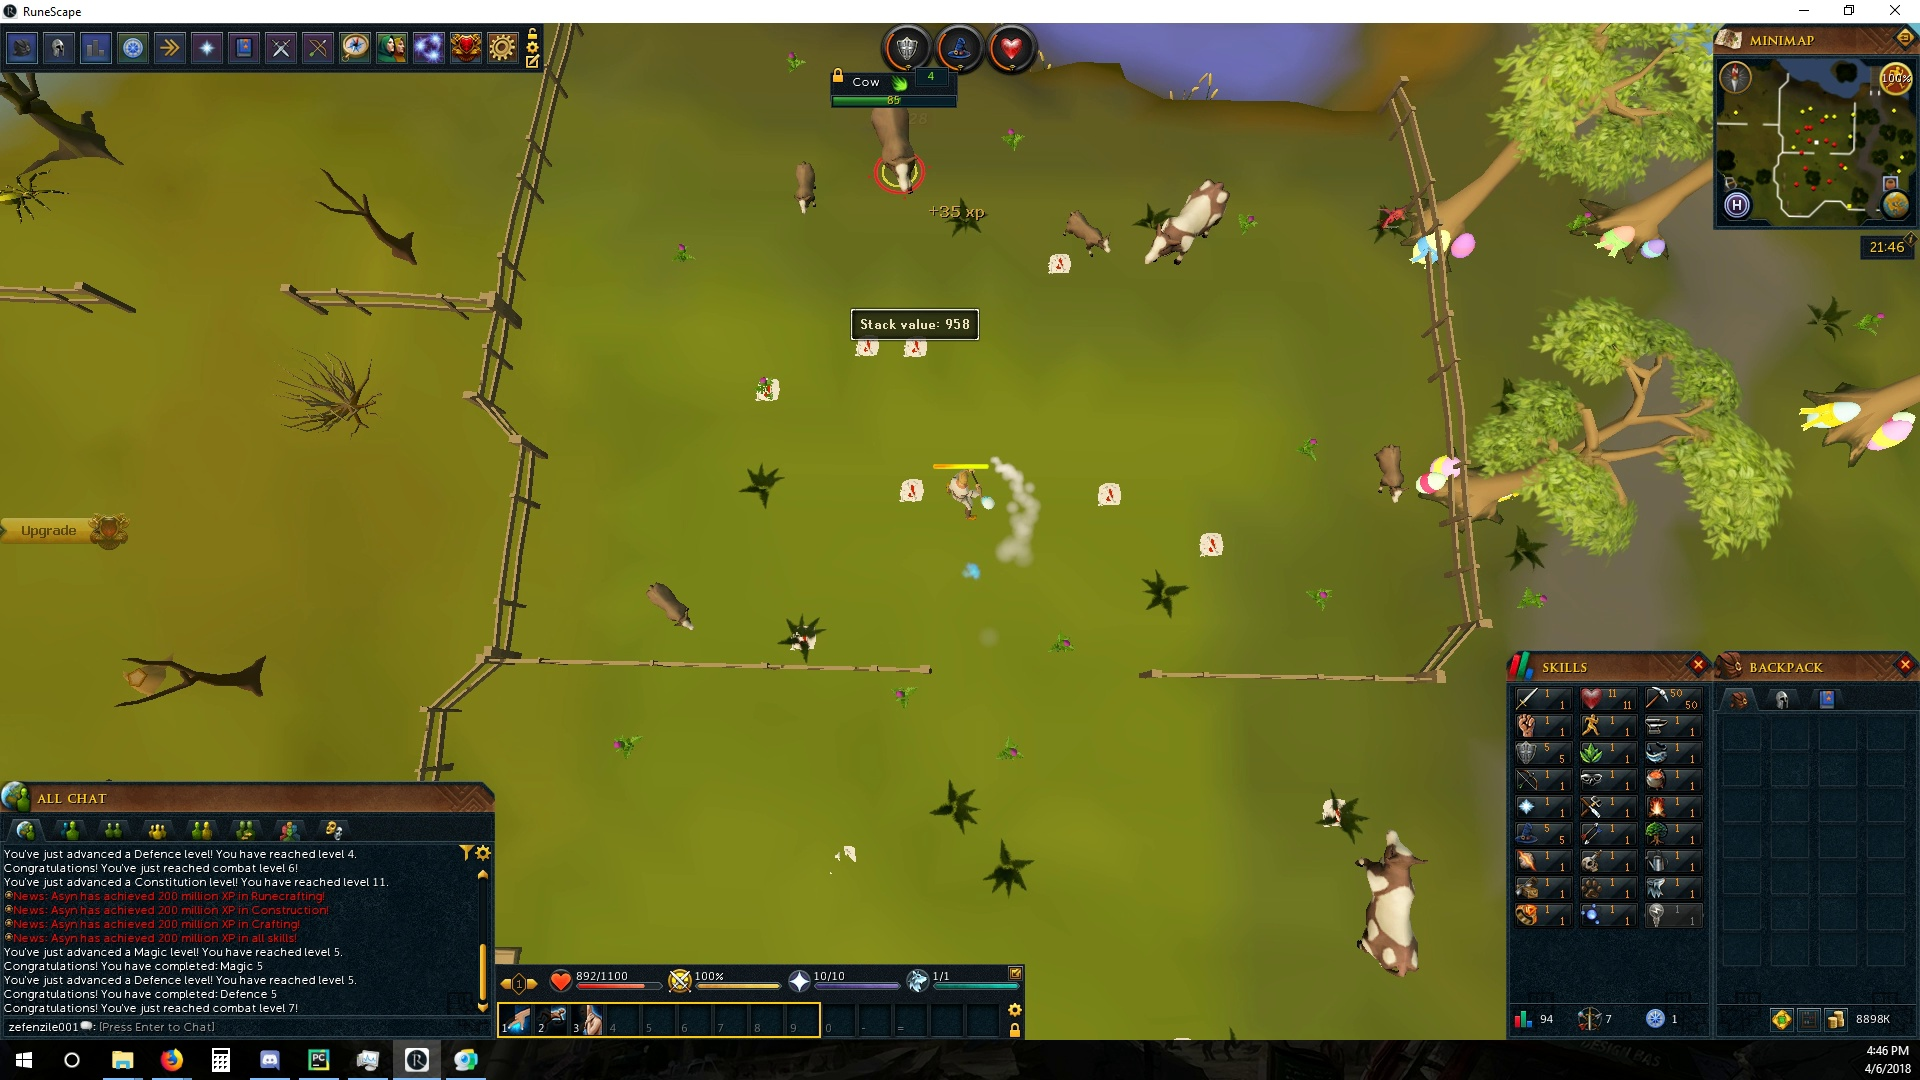calf: (640, 575, 698, 636), (1060, 212, 1116, 262), (1374, 442, 1410, 506), (786, 161, 818, 218)
cow: (1353, 827, 1432, 981), (1139, 175, 1234, 269), (858, 107, 928, 200)
cow_drop: (1312, 796, 1352, 833), (1195, 529, 1229, 563), (1089, 479, 1126, 510), (752, 373, 782, 410), (891, 473, 928, 501), (895, 339, 934, 364), (1044, 252, 1079, 276), (851, 338, 880, 363)
